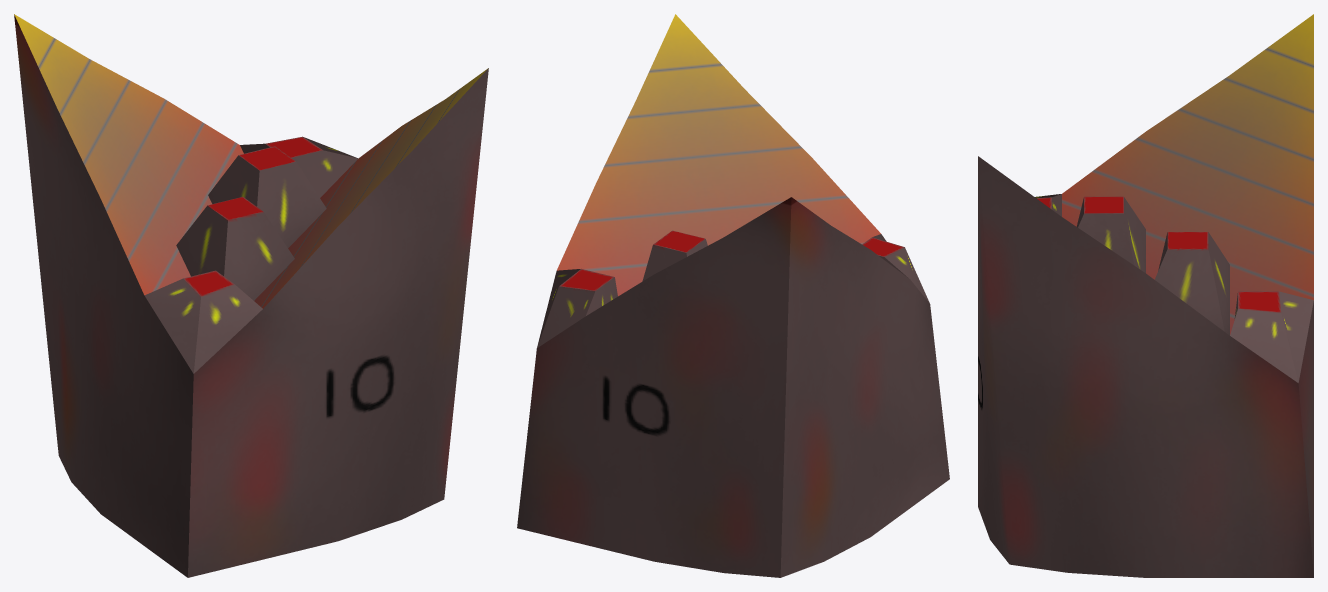
File: AS_factory.fbx
3 views of the same model, side by side, from view 1: azimuth 30°, elevation 25°; view 2: azimuth 150°, elevation 25°; view 3: azimuth 270°, elevation 25° (orthographic). The views are drawn at different scales.
Parts seen in each view (by area): view 1: factory; view 2: factory; view 3: factory.
Part boxes in pixels (bbox=[...]): factory: bbox=[14, 14, 488, 577]; factory: bbox=[517, 14, 949, 577]; factory: bbox=[978, 14, 1313, 577].
Bounding box in the file's own units: 19.84 × 27.5 × 19.84.
